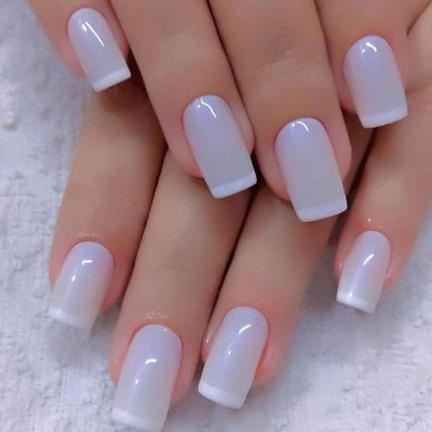Nail: (182, 95, 257, 199), (274, 117, 348, 222), (110, 324, 182, 431), (197, 307, 270, 408), (342, 35, 408, 128), (46, 242, 114, 329), (67, 8, 131, 92), (336, 231, 392, 313)
